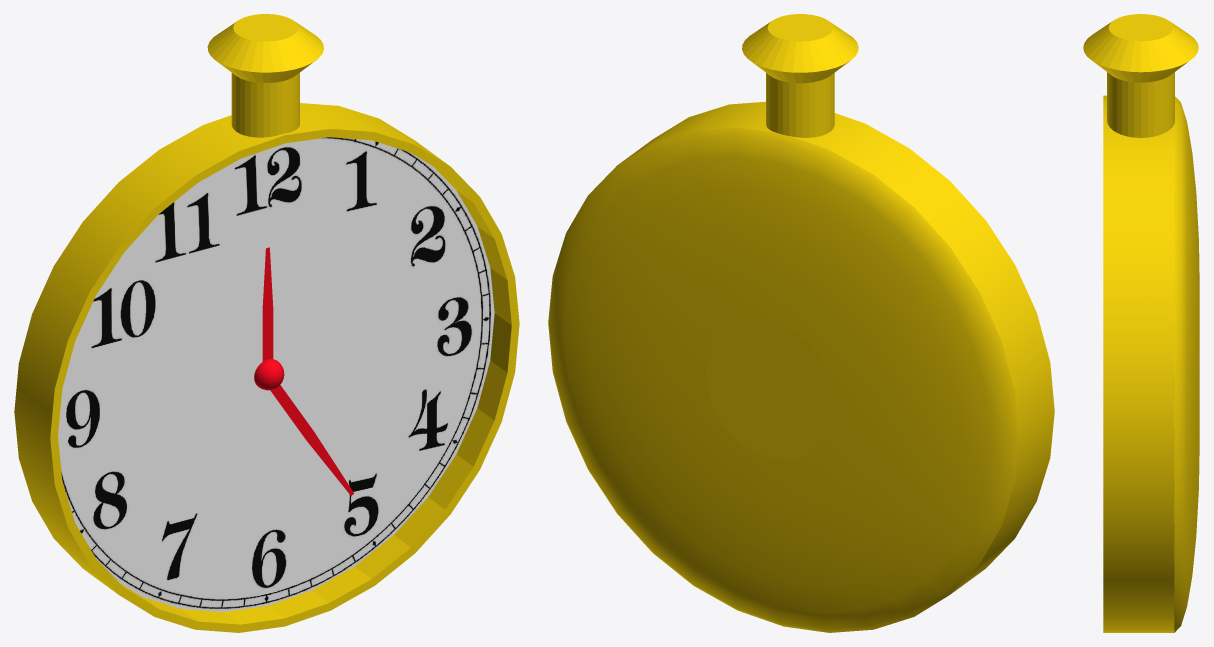
The model's file is Reloj.glb.
The picture shows the model from 3 angles, left to right: view 1: azimuth 30°, elevation 25°; view 2: azimuth 150°, elevation 25°; view 3: azimuth 270°, elevation 25°; orthographic projection.
Parts seen in each view (by area): view 1: clock; view 2: clock; view 3: clock.
Boxes of the visible parts, box(x1,y1,x2,y2) form: clock: box(14, 14, 519, 632); clock: box(548, 14, 1054, 632); clock: box(1083, 14, 1199, 632).
Bounding box in the file's own units: 2 × 2.38 × 0.4336.
4 materials, 1 textured.
